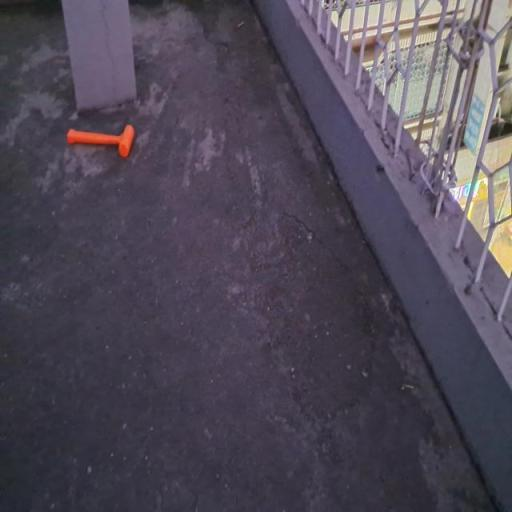mallet: (68, 125, 134, 156)
